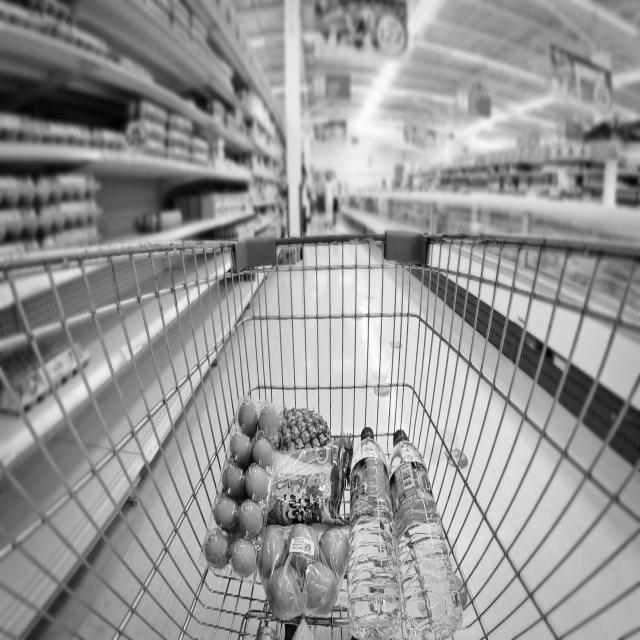apple: (256, 522, 351, 619)
egg: (203, 390, 279, 582)
pineapple: (277, 404, 338, 453)
